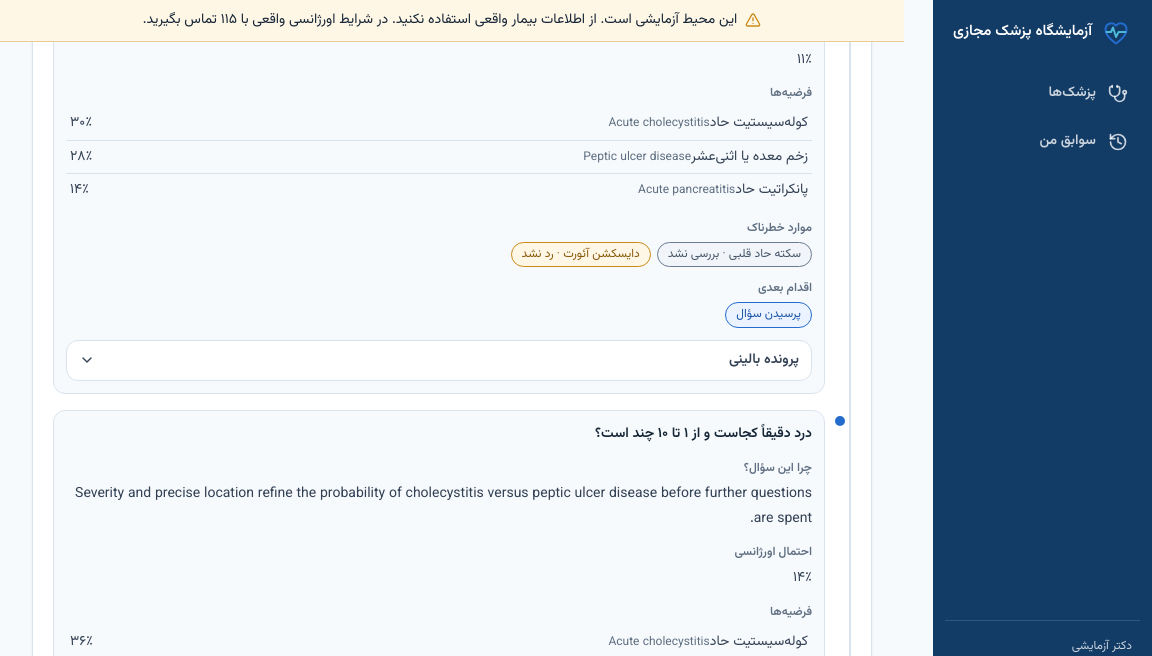
Test: backstage — structured (b-) session › expands the clinical state as nested key/value lists
The width and height of the screenshot is (1152, 656).
(page scrolled)
What coordinates should you click on to do the following:
click the button "پرونده بالینی"
I would click on:
 (764, 360)
Its box is [67,340,811,380].
(page scrolled)
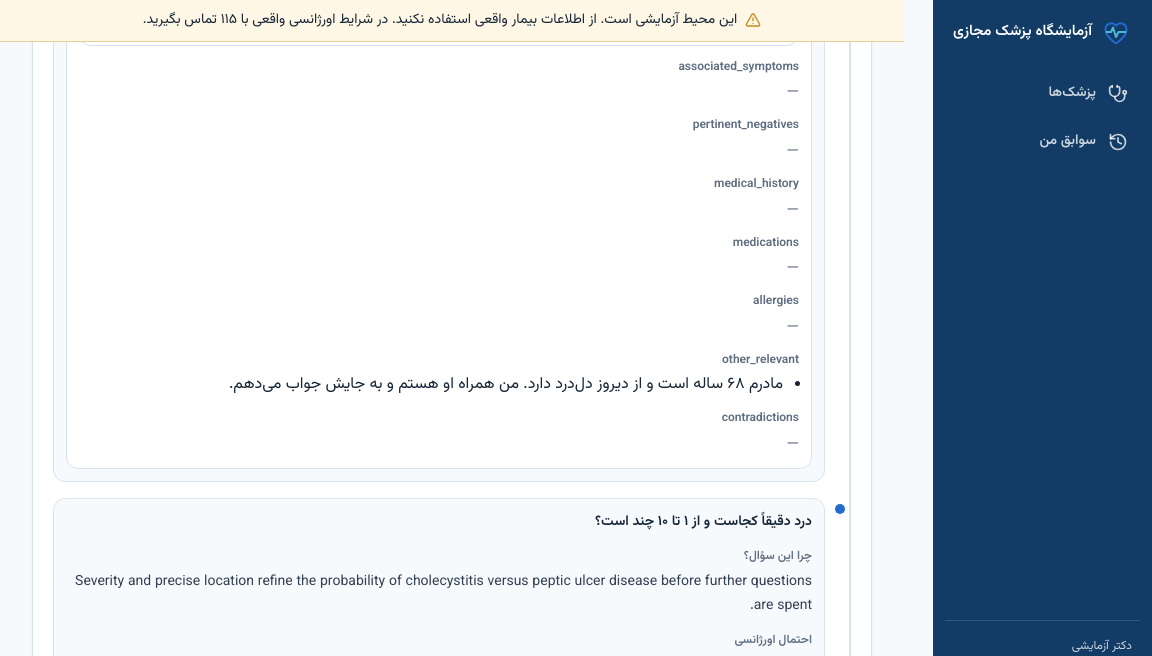
Now the text "other_relevant" is shown, box [722,351,799,369]
